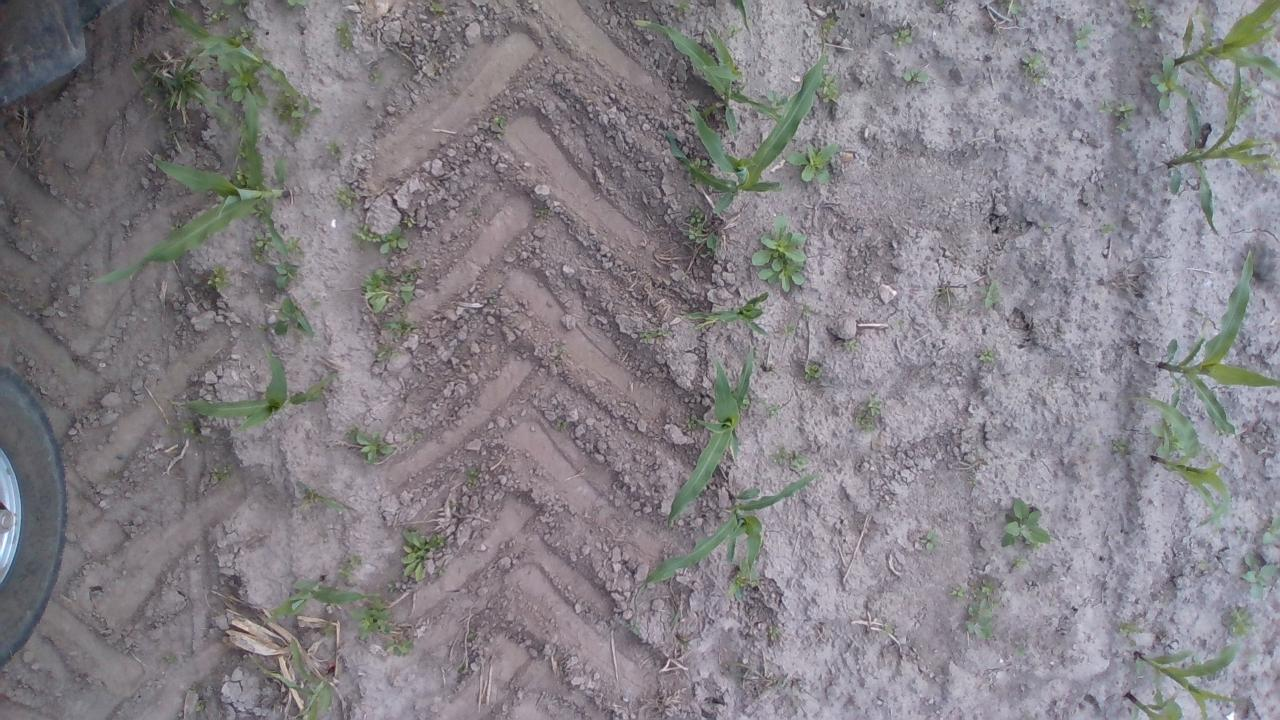Maize: (639, 17, 834, 218), (91, 124, 296, 292), (637, 468, 826, 594), (1159, 253, 1280, 447), (1158, 93, 1280, 244), (654, 347, 756, 523), (157, 3, 306, 109), (166, 338, 331, 424), (1178, 0, 1280, 119), (1134, 638, 1249, 718), (1153, 442, 1241, 532), (268, 635, 334, 720), (259, 576, 362, 626)
Weeds: (752, 219, 811, 302), (945, 576, 1005, 646), (996, 492, 1052, 554), (357, 602, 418, 656), (689, 298, 772, 334), (362, 266, 421, 314), (398, 526, 448, 580), (789, 143, 844, 187), (1240, 558, 1279, 604), (1148, 52, 1180, 108), (686, 206, 723, 253), (850, 395, 884, 444), (278, 95, 320, 134), (352, 428, 397, 464), (354, 224, 406, 255), (1068, 20, 1096, 62), (914, 522, 946, 558), (1128, 4, 1162, 36), (893, 65, 936, 90), (1021, 50, 1050, 87), (205, 457, 238, 488), (1222, 602, 1252, 636), (332, 18, 361, 53), (273, 258, 301, 294), (974, 279, 1005, 311), (1102, 92, 1132, 124), (379, 316, 419, 340), (340, 549, 370, 581), (204, 263, 233, 288), (890, 23, 918, 48), (797, 358, 826, 382), (767, 84, 793, 110), (845, 336, 873, 360), (228, 24, 258, 46), (823, 68, 840, 106), (462, 464, 486, 490), (172, 418, 200, 440), (1260, 518, 1280, 548), (370, 64, 393, 90), (550, 420, 582, 438), (976, 345, 1001, 368), (336, 188, 362, 210), (464, 200, 484, 226), (820, 13, 841, 36), (228, 168, 250, 189), (688, 150, 710, 170), (202, 8, 224, 28), (488, 287, 507, 309), (548, 340, 570, 358), (256, 232, 272, 256), (426, 4, 454, 16), (326, 142, 339, 167), (491, 112, 511, 128), (536, 204, 553, 222)
